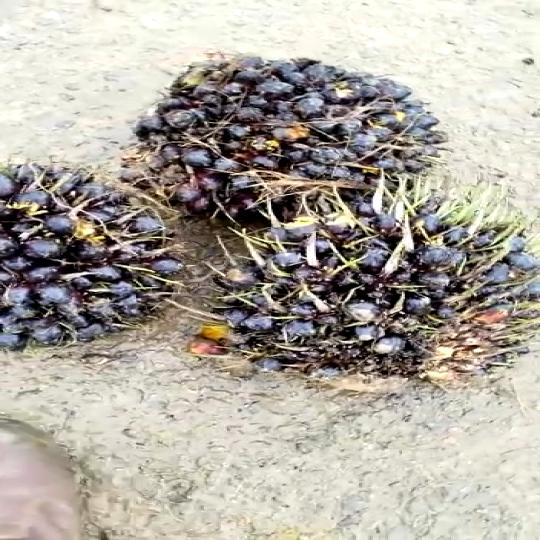mentah: (233, 204, 540, 399), (148, 56, 450, 220), (0, 112, 193, 352)
